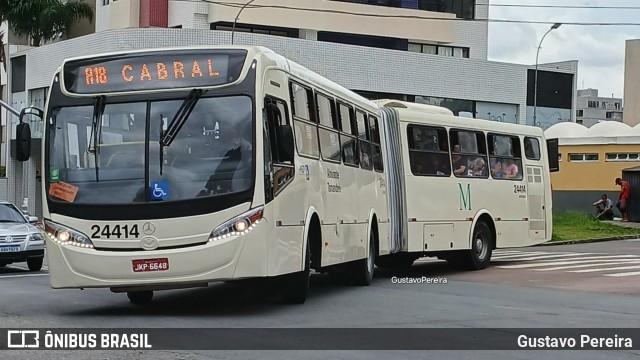CABRAL: (118, 54, 222, 84)
